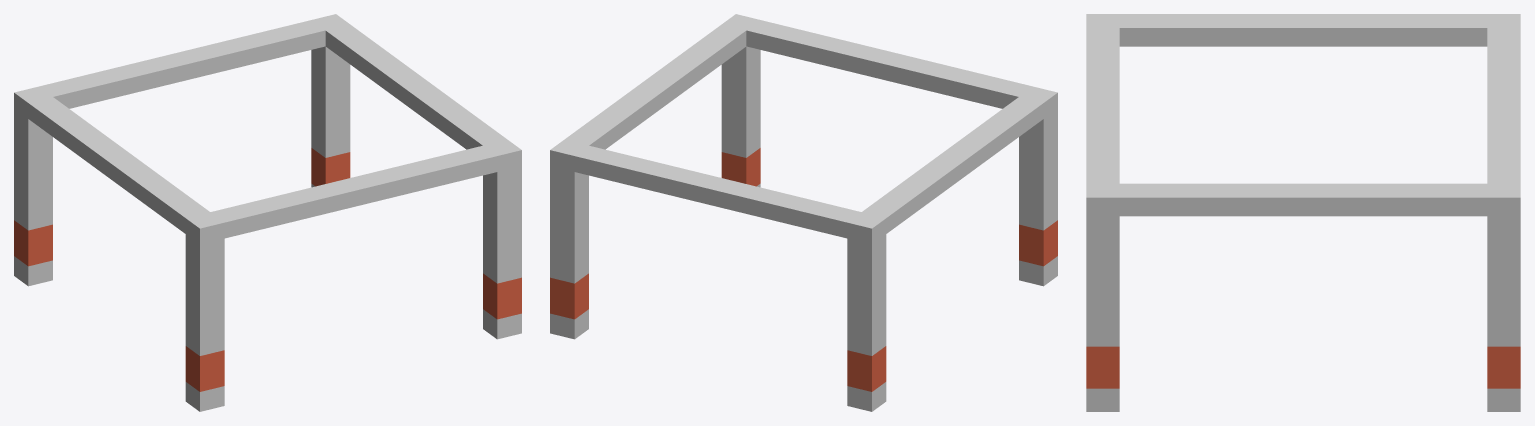
The model's file is frameHigh.fbx.
3 views of the same model, side by side, from view 1: azimuth 30°, elevation 25°; view 2: azimuth 150°, elevation 25°; view 3: azimuth 270°, elevation 25° (orthographic). The views are drawn at different scales.
Parts seen in each view (by area): view 1: frameHigh; view 2: frameHigh; view 3: frameHigh.
Part boxes in pixels (x1,y1,x2,y2): frameHigh: (14, 14, 521, 411); frameHigh: (550, 14, 1057, 411); frameHigh: (1086, 14, 1520, 411).
Size of the model in its own units: 8.45 by 4.6 by 8.45.
